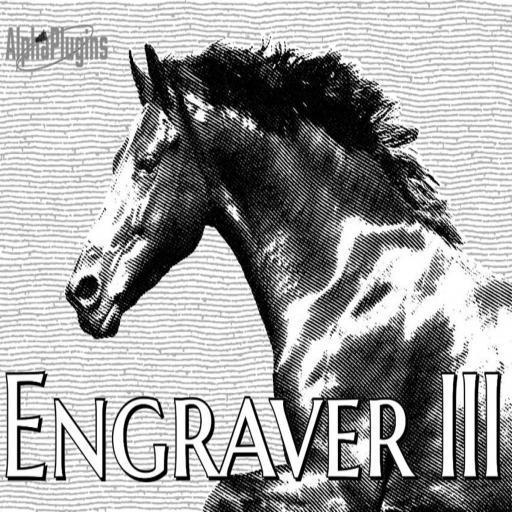horse: (62, 38, 512, 512)
